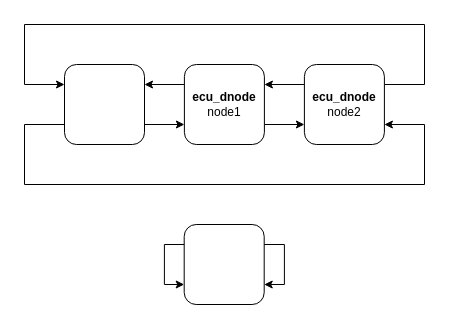
This 450x322 diagram has some shape labels left out. Here are the shapes that lost their labels. From the top down, the box of each, then its label:
(64, 64, 144, 144): ecu_dlist list1
(183, 224, 264, 304): ecu_dlist list2
